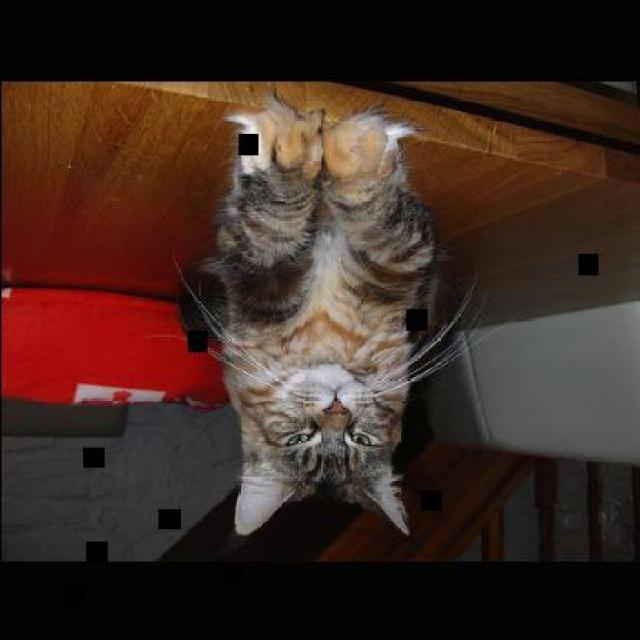unauthorized: (172, 88, 486, 538)
